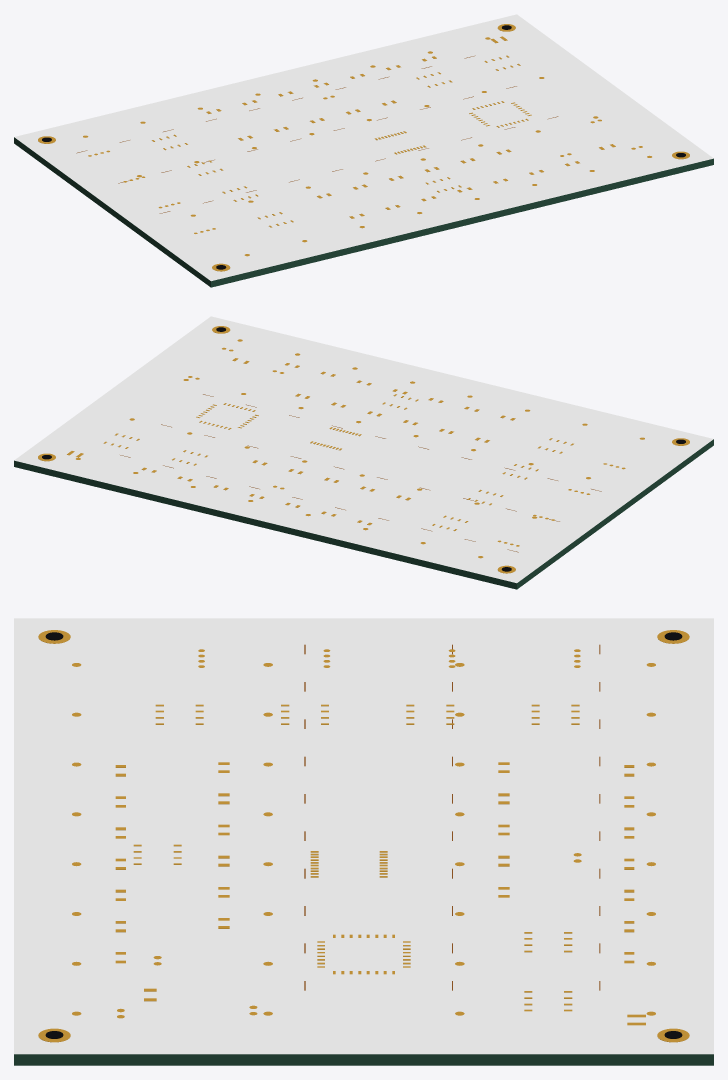
Rendered from 00_L96_SMX4_PCB_140x95mm_Empty.fbx.
3 views of the same model, one above another, from view 1: azimuth 30°, elevation 25°; view 2: azimuth 150°, elevation 25°; view 3: azimuth 270°, elevation 25° (orthographic). The views are drawn at different scales.
Visible parts, largest first — view 1: L96_SMX4_PCB_140x95mm_Empty_259_PCB_FactoryScreen_PrintArtwo, L96_SMX4_PCB_140x95mm_Empty_000_FR4_Substrate_1p6mm; view 2: L96_SMX4_PCB_140x95mm_Empty_259_PCB_FactoryScreen_PrintArtwo, L96_SMX4_PCB_140x95mm_Empty_000_FR4_Substrate_1p6mm; view 3: L96_SMX4_PCB_140x95mm_Empty_259_PCB_FactoryScreen_PrintArtwo, L96_SMX4_PCB_140x95mm_Empty_000_FR4_Substrate_1p6mm, L96_SMX4_PCB_140x95mm_Empty_001_Emerald_TopSoldermask, L96_SMX4_PCB_140x95mm_Empty_002_Emerald_BottomSoldermask.
Part boxes in pixels (bbox=[...]): L96_SMX4_PCB_140x95mm_Empty_259_PCB_FactoryScreen_PrintArtwo: bbox=[14, 14, 713, 281]; L96_SMX4_PCB_140x95mm_Empty_000_FR4_Substrate_1p6mm: bbox=[14, 137, 713, 287]; L96_SMX4_PCB_140x95mm_Empty_259_PCB_FactoryScreen_PrintArtwo: bbox=[14, 316, 713, 583]; L96_SMX4_PCB_140x95mm_Empty_000_FR4_Substrate_1p6mm: bbox=[14, 439, 713, 589]; L96_SMX4_PCB_140x95mm_Empty_259_PCB_FactoryScreen_PrintArtwo: bbox=[14, 618, 713, 1054]; L96_SMX4_PCB_140x95mm_Empty_000_FR4_Substrate_1p6mm: bbox=[14, 1054, 713, 1065]; L96_SMX4_PCB_140x95mm_Empty_001_Emerald_TopSoldermask: bbox=[14, 1054, 713, 1054]; L96_SMX4_PCB_140x95mm_Empty_002_Emerald_BottomSoldermask: bbox=[14, 1065, 713, 1065].
Size of the model in its own units: 0.14 by 0.00184 by 0.095.
